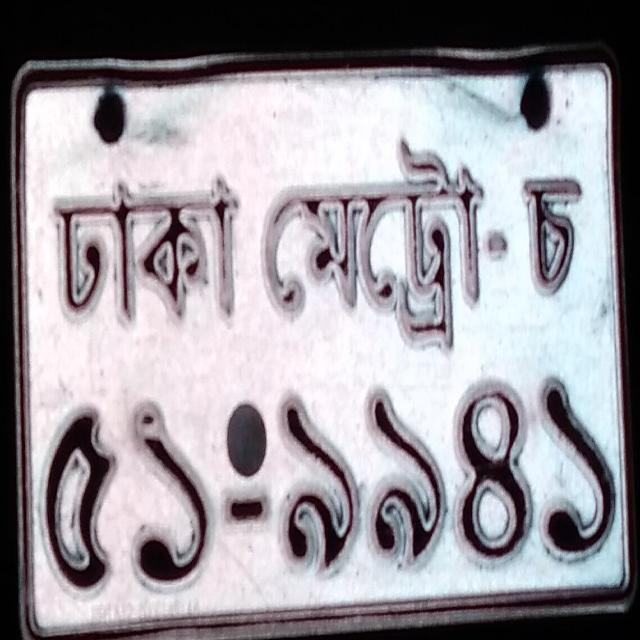numberplate: (8, 43, 635, 639)
